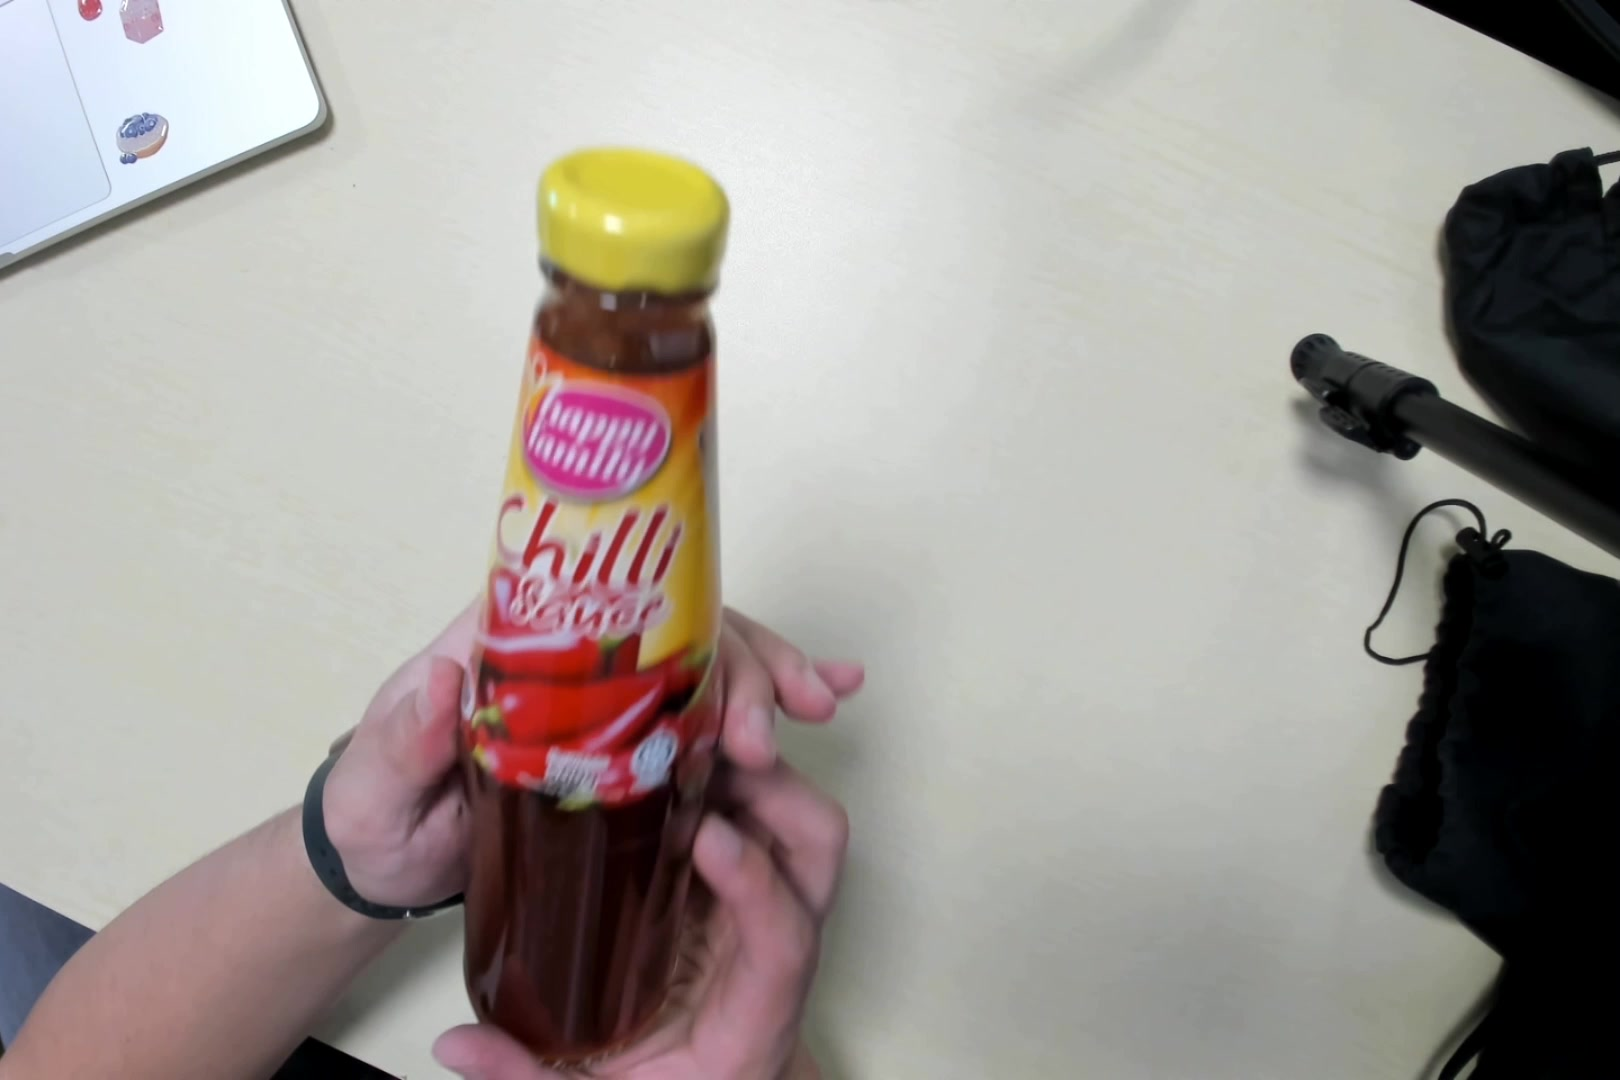KetchupChillSauce_500-599g_Halal_NonHealthy: (463, 125, 732, 1060)
